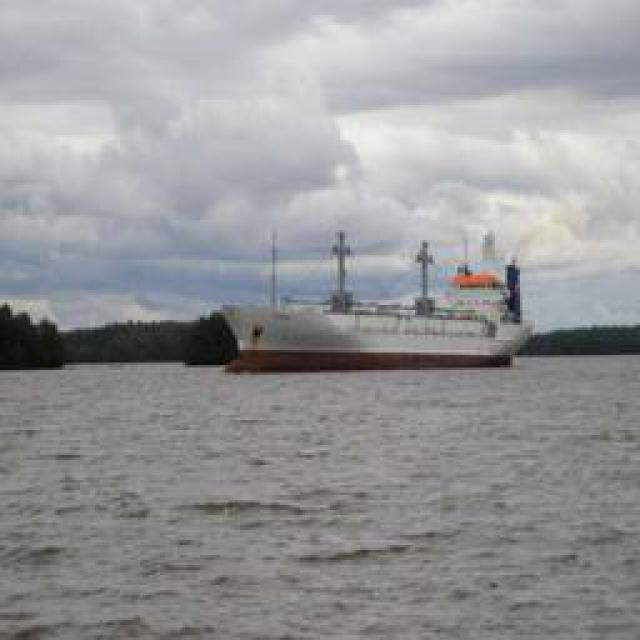Ship: (208, 241, 536, 374)
